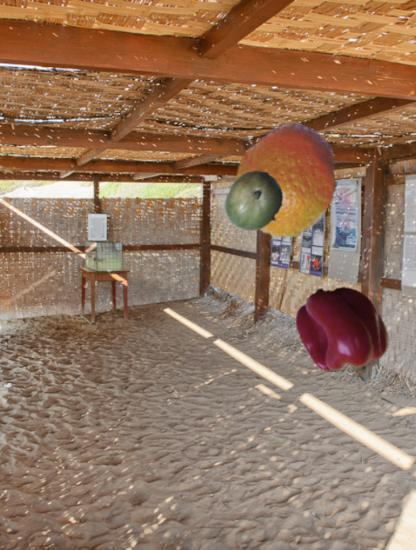Mandarine: (228, 122, 346, 240)
Mango: (223, 170, 287, 234)
Pepper: (296, 283, 389, 376)
